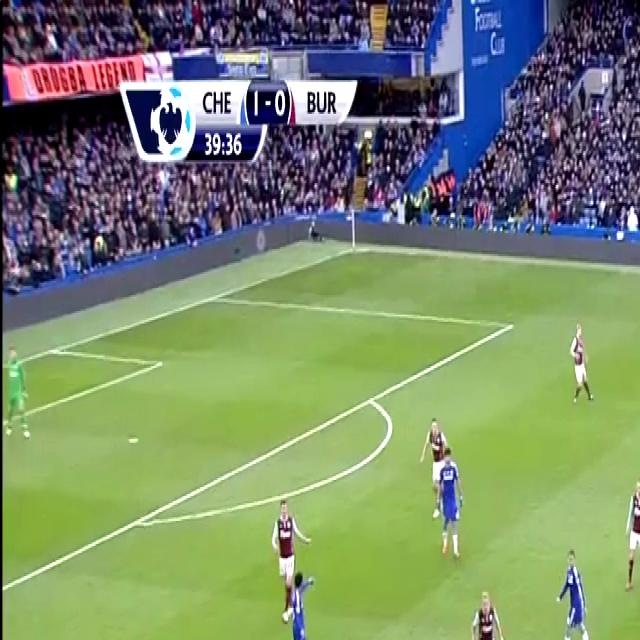goalkeeper: (5, 334, 38, 451)
soccer-player: (273, 483, 313, 626), (546, 537, 597, 640), (432, 438, 469, 562), (282, 558, 322, 640), (418, 409, 455, 494), (567, 311, 597, 411), (617, 468, 640, 598), (461, 579, 509, 640)
